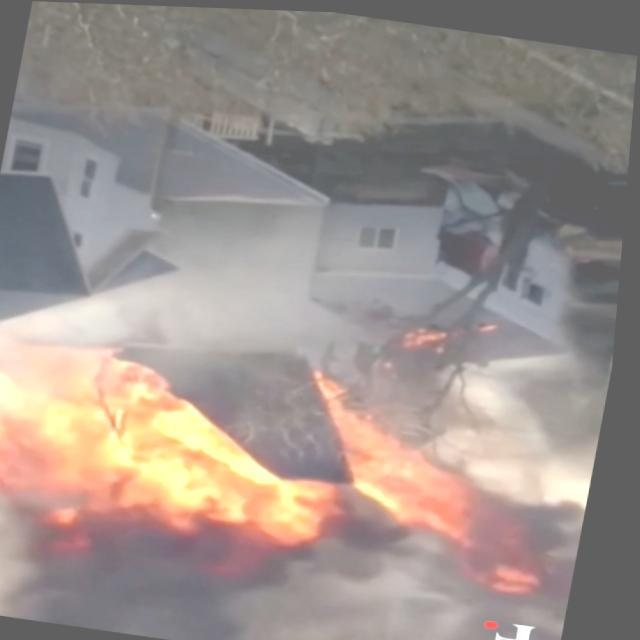helmet: (0, 325, 355, 586), (330, 379, 567, 583)
no_helmet: (0, 497, 491, 640)
